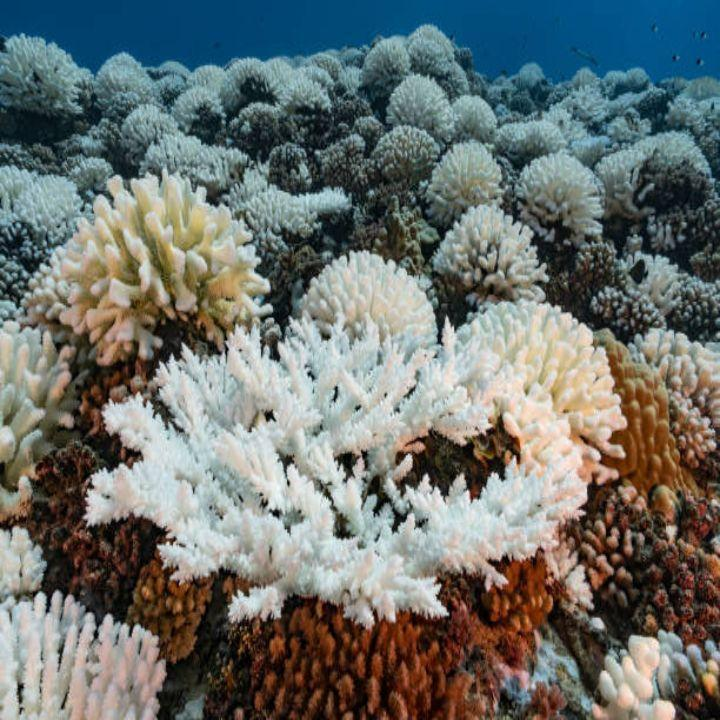Bleached-diseasemultiple: (38, 166, 680, 720), (0, 18, 719, 316), (12, 140, 304, 432), (0, 594, 166, 720), (0, 321, 70, 518), (594, 632, 720, 720), (0, 528, 46, 602)
